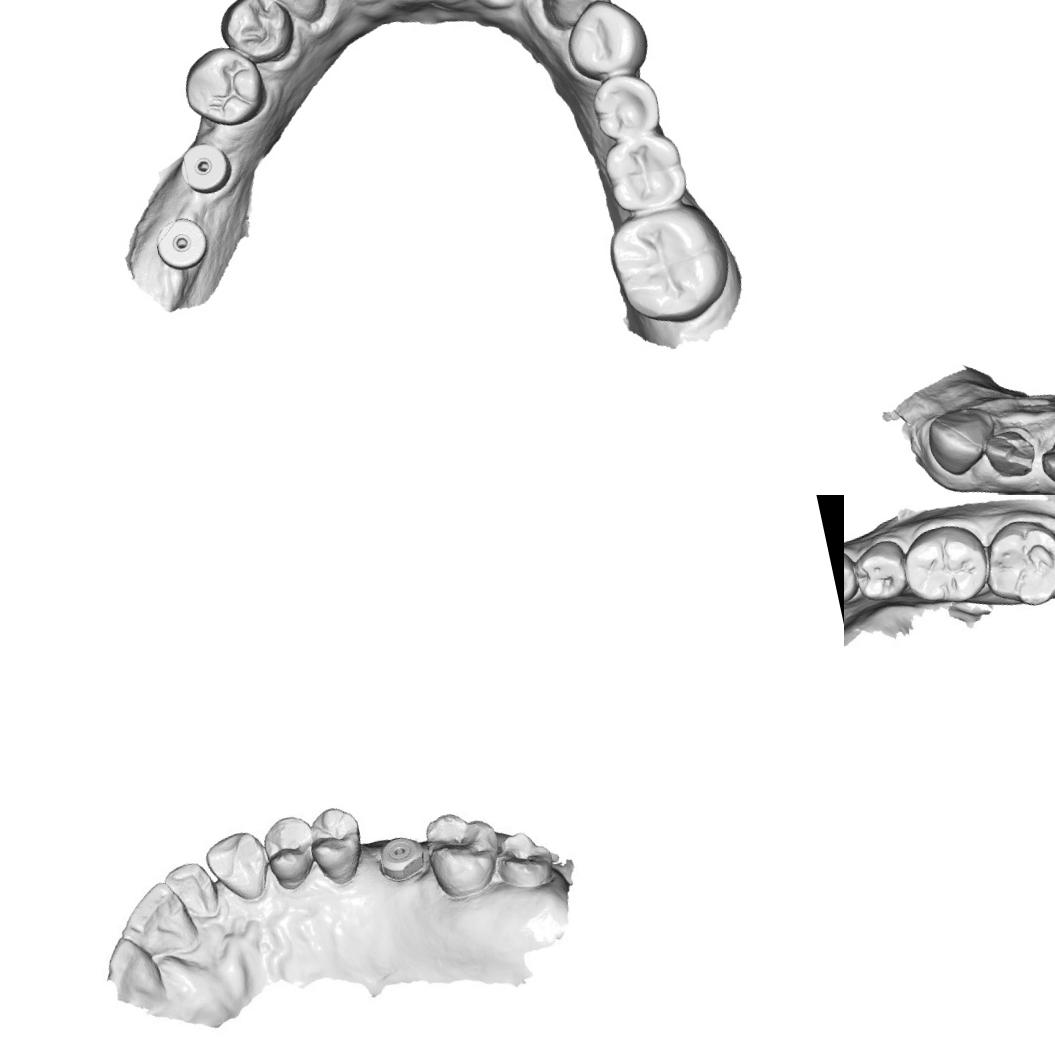canine: (919, 395, 1006, 482), (204, 826, 274, 905), (530, 0, 624, 31), (253, 0, 335, 30)
implant: (150, 212, 215, 278), (176, 134, 238, 196), (374, 829, 429, 882)
incisor: (113, 878, 201, 964), (979, 422, 1041, 490), (165, 858, 224, 927), (1035, 423, 1055, 495)
molar: (600, 198, 736, 331), (899, 518, 995, 614), (598, 128, 690, 218), (424, 807, 506, 902), (978, 517, 1055, 608), (488, 821, 562, 898)
premolar: (176, 40, 274, 134), (558, 0, 652, 85), (211, 0, 298, 71), (587, 66, 664, 145), (306, 804, 369, 887), (260, 810, 322, 890), (853, 542, 911, 604), (844, 546, 855, 606)
